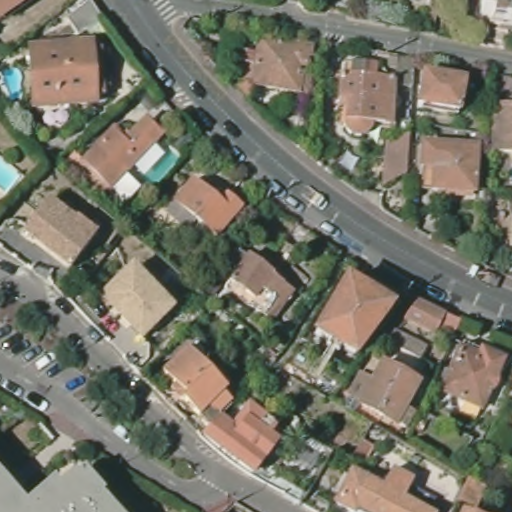pool: (144, 145, 186, 184), (1, 62, 28, 106), (1, 154, 27, 194)
